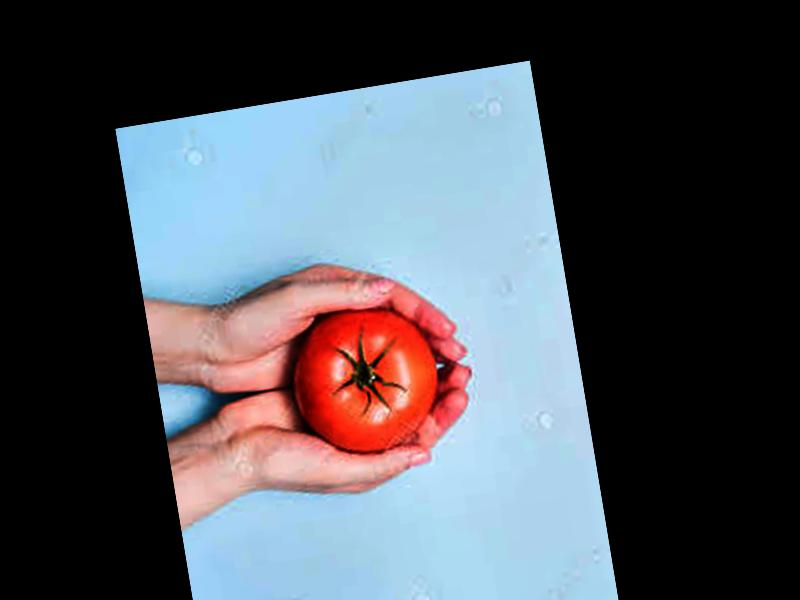Tomato: (283, 294, 447, 463)
